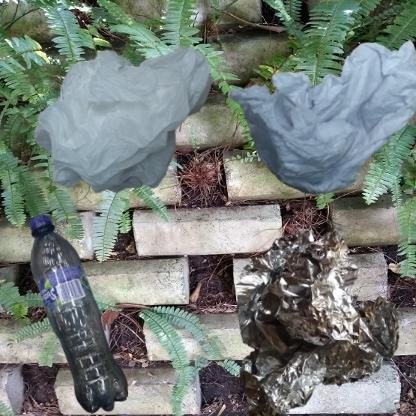aluminio: (213, 213, 416, 416)
bolsa: (10, 10, 287, 260)
botella: (10, 213, 151, 416)
papel: (213, 10, 416, 217)
